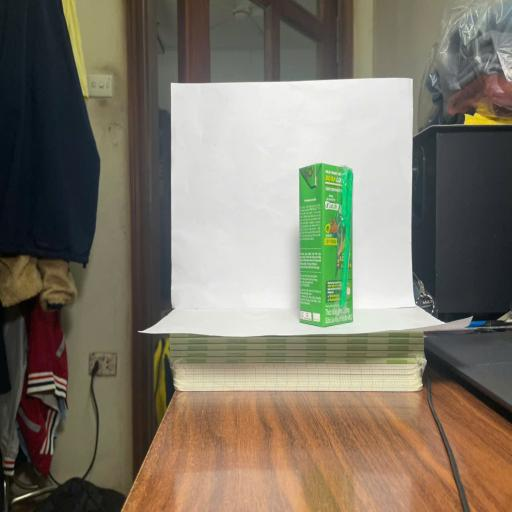milo: (298, 163, 353, 326)
